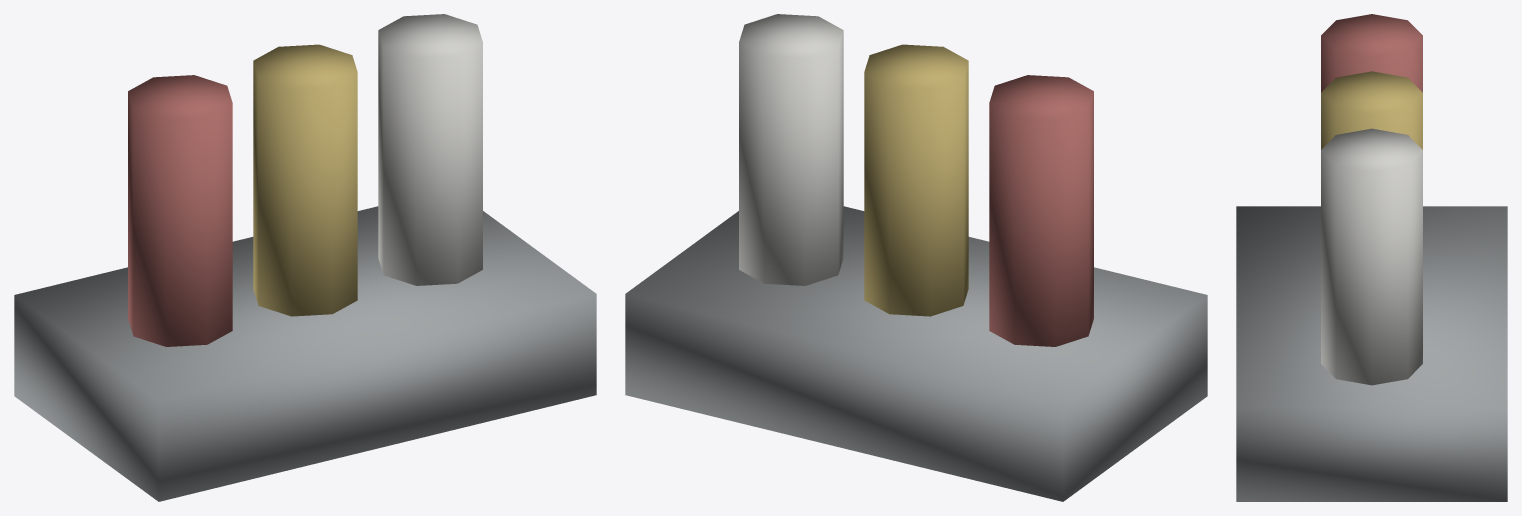
Rendered from condiment_station__tall.glb.
The picture shows the model from 3 angles, left to right: view 1: azimuth 30°, elevation 25°; view 2: azimuth 150°, elevation 25°; view 3: azimuth 270°, elevation 25°; orthographic projection. The views are drawn at different scales.
Visible parts, largest first — view 1: world; view 2: world; view 3: world.
Boxes of the visible parts, left/top/right/bottom form: world: left=14, top=14, right=596, bottom=501; world: left=625, top=14, right=1207, bottom=501; world: left=1236, top=14, right=1507, bottom=501.
Size of the model in its own units: 0.42 by 0.3016 by 0.24.
